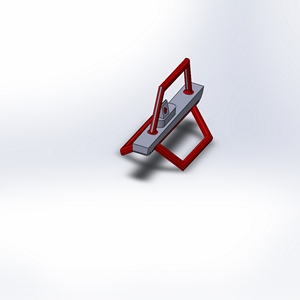submarine: (106, 52, 254, 178)
